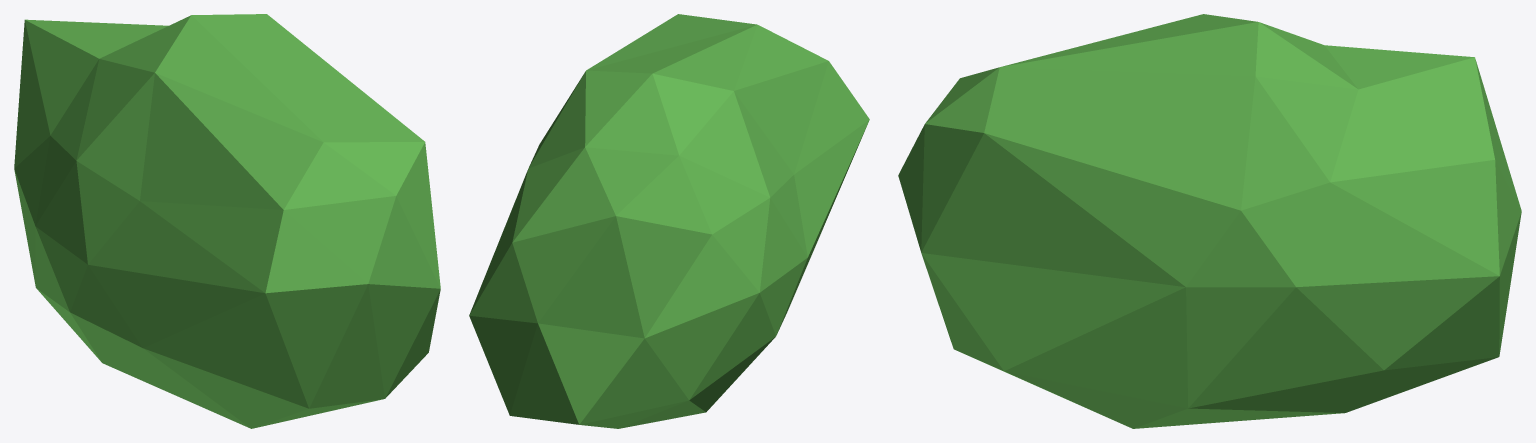
File: bush.fbx
3 renders of one model, left to right at view 1: azimuth 30°, elevation 25°; view 2: azimuth 150°, elevation 25°; view 3: azimuth 270°, elevation 25°, orthographic. The views are drawn at different scales.
Parts seen in each view (by area): view 1: Icosphere; view 2: Icosphere; view 3: Icosphere.
Part boxes in pixels (<box>): Icosphere: <box>14,14,440,428</box>; Icosphere: <box>469,14,869,428</box>; Icosphere: <box>898,14,1521,428</box>.
Bounding box in the file's own units: 214 × 269 × 399.
